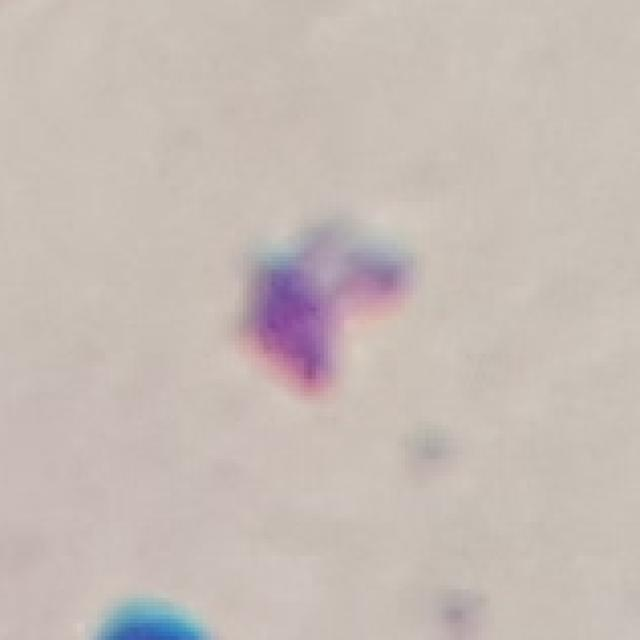non-sperm: (248, 224, 413, 398)
